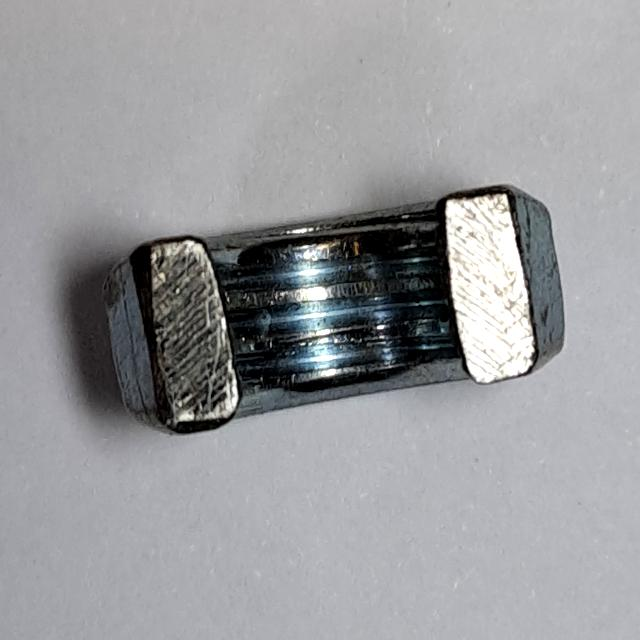Side-Fracture: (94, 171, 581, 458)
